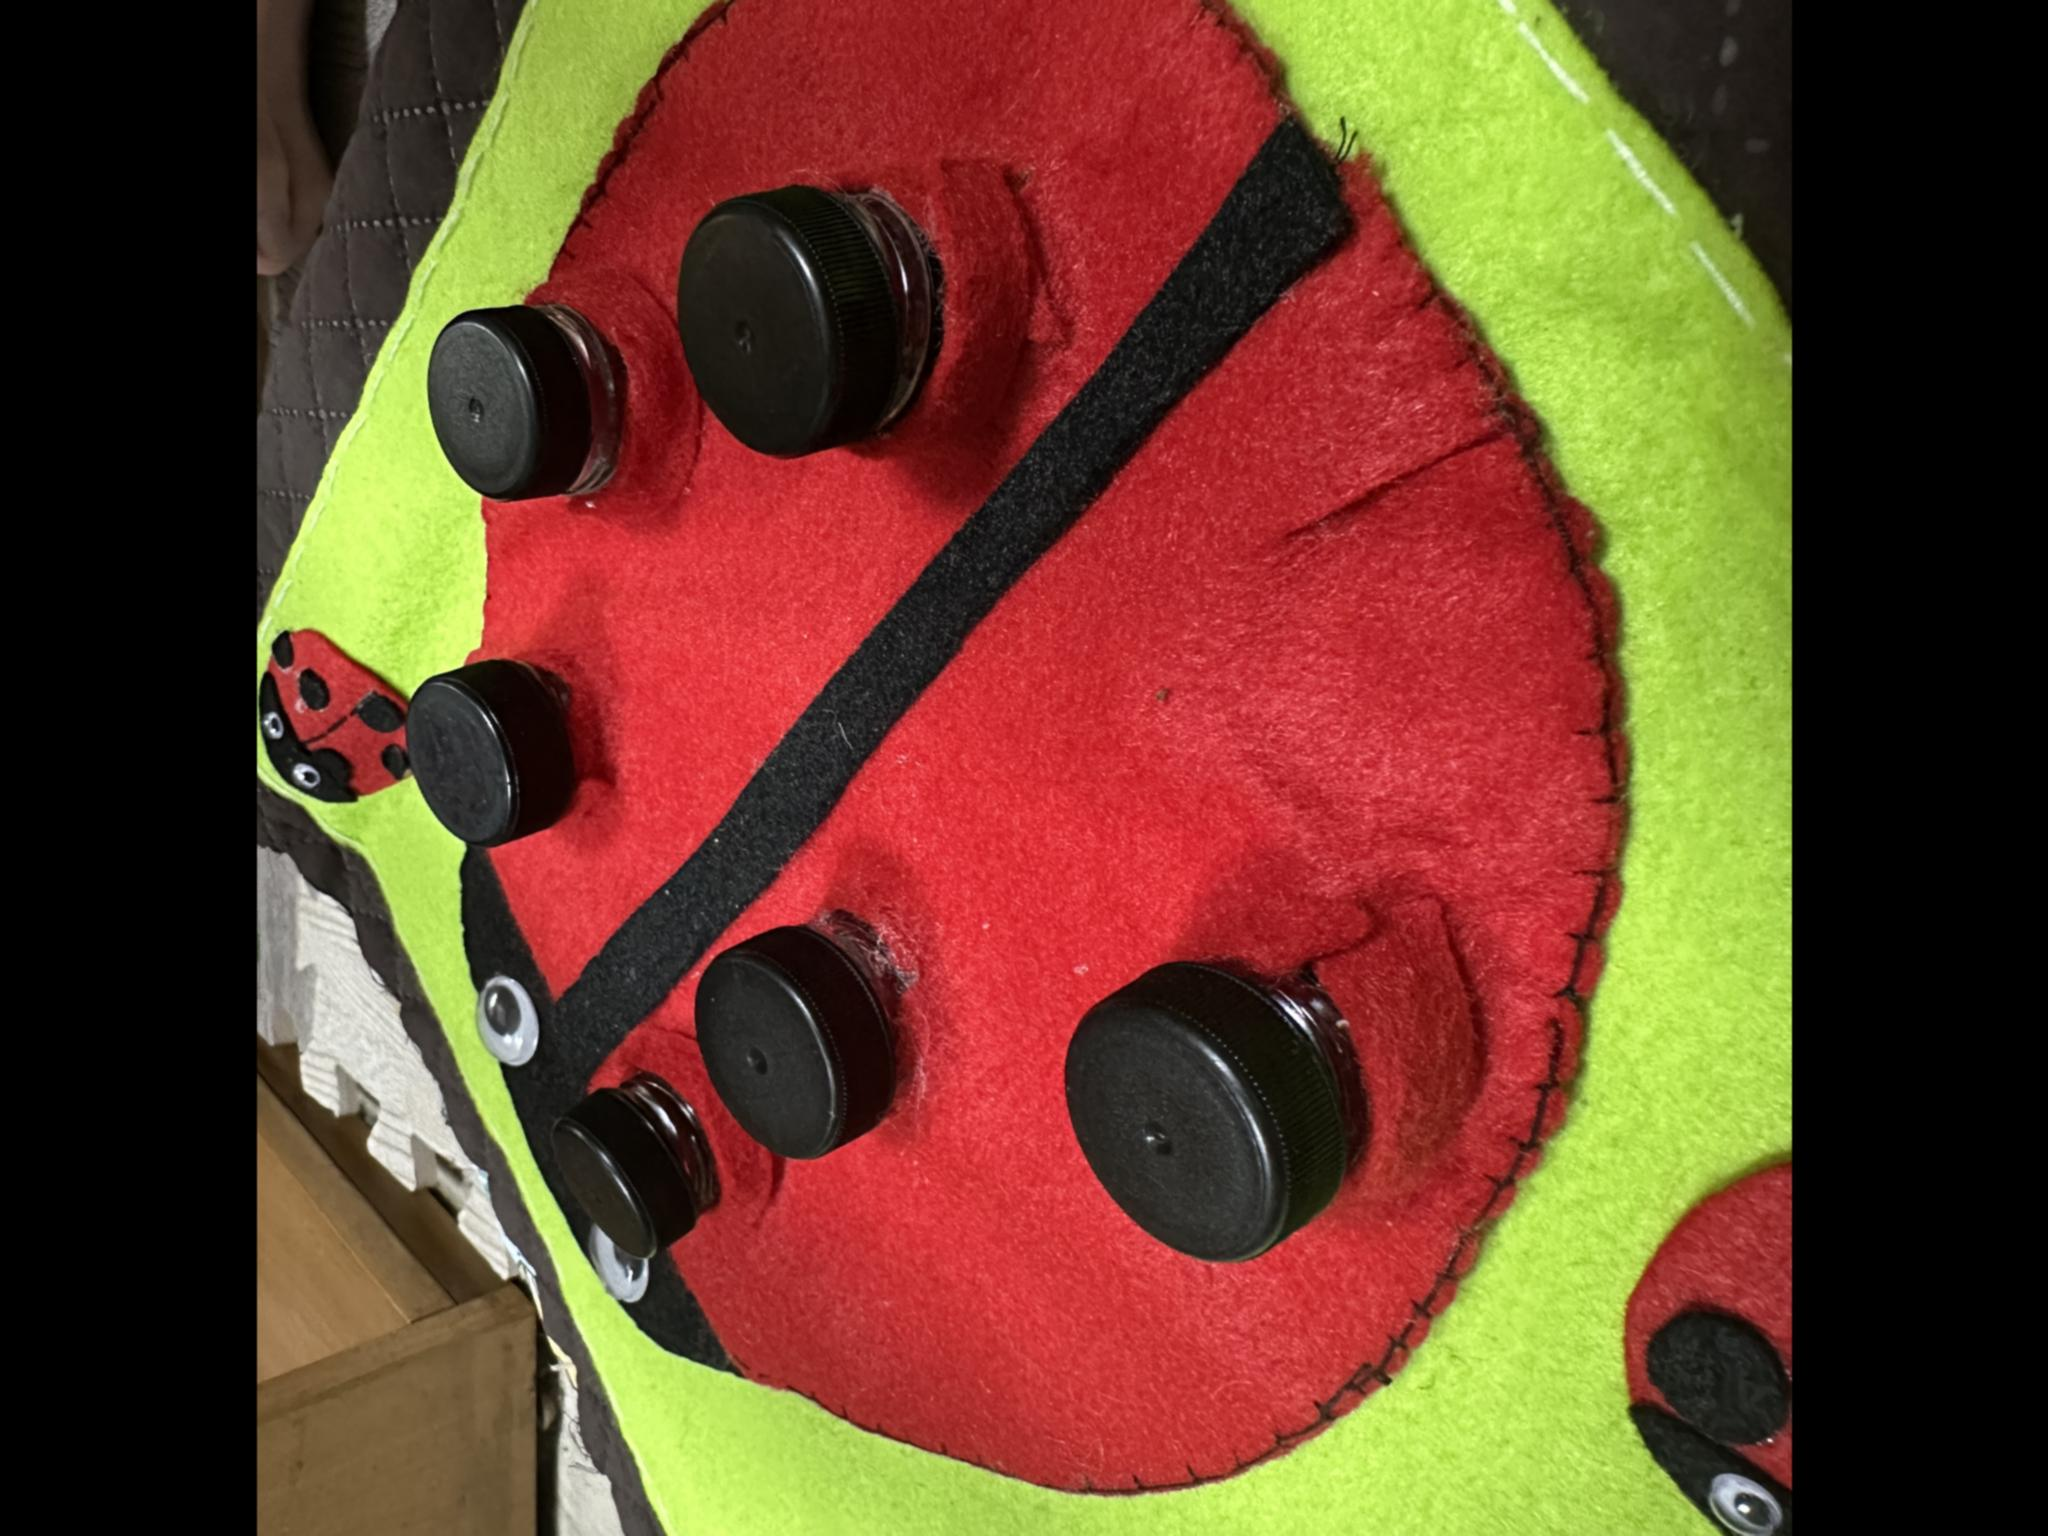cap_ng: (671, 153, 1061, 489), (402, 282, 687, 542), (542, 1062, 742, 1267)
cap_ok: (1027, 895, 1500, 1291), (684, 895, 947, 1183), (376, 634, 618, 868)
